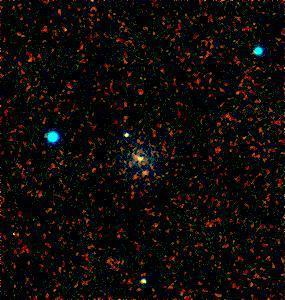star: (134, 162, 164, 192)
